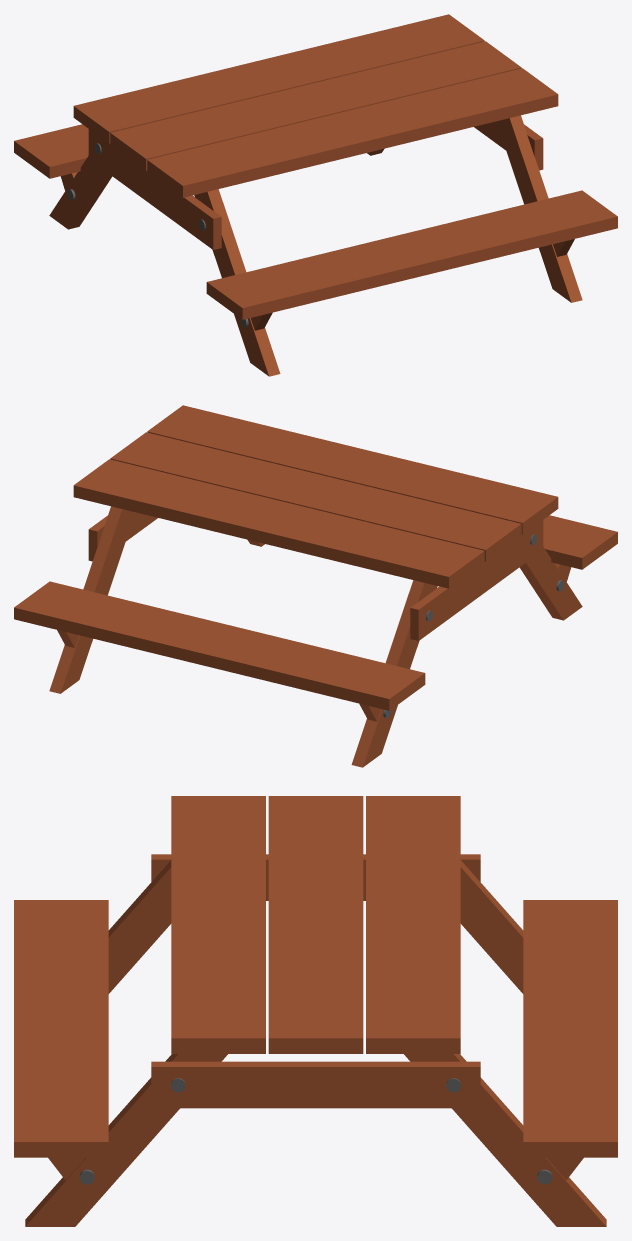
The model's file is bench.fbx.
3 renders of one model, top to bottom at view 1: azimuth 30°, elevation 25°; view 2: azimuth 150°, elevation 25°; view 3: azimuth 270°, elevation 25°, orthographic. The views are drawn at different scales.
Visible parts, largest first — view 1: Cube; view 2: Cube; view 3: Cube.
Part boxes in pixels (bbox=[...]): Cube: bbox=[14, 14, 617, 376]; Cube: bbox=[14, 405, 617, 767]; Cube: bbox=[14, 796, 617, 1226].
Bounding box in the file's own units: 200 × 80.33 × 211.
